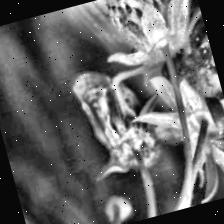Gray Mold: (68, 55, 180, 188)
